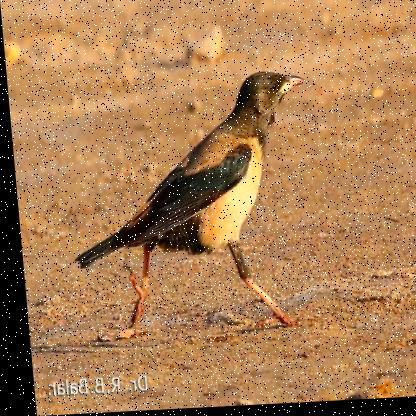Burung: (64, 72, 320, 342)
